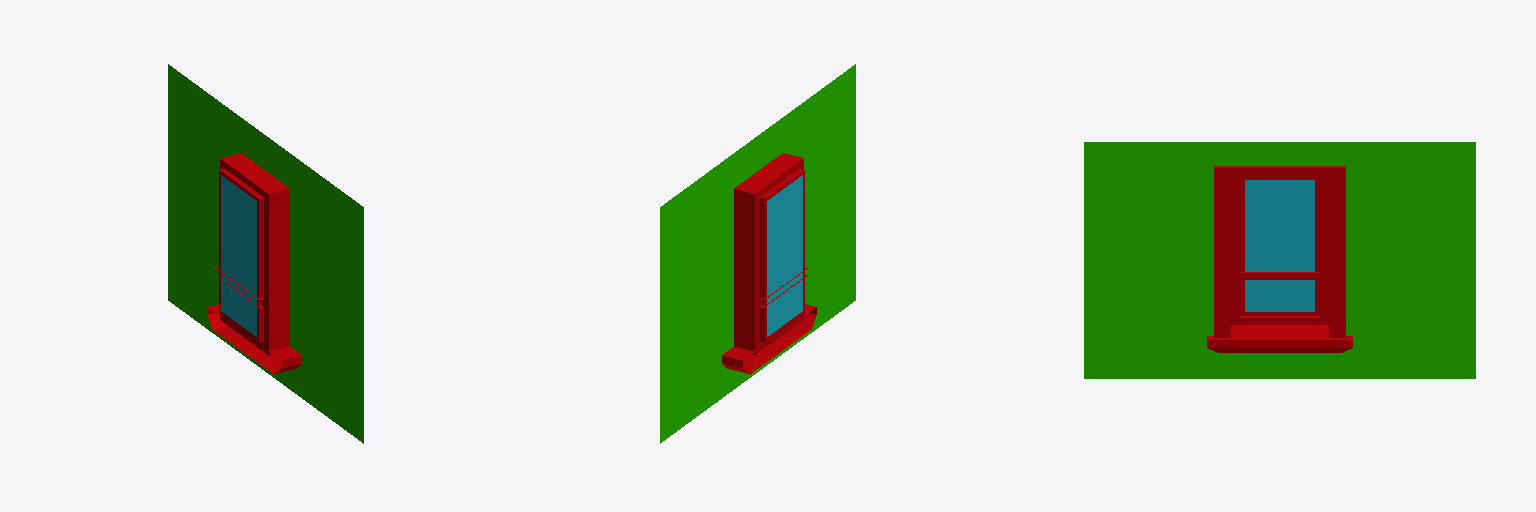
The model's file is NY_wallWindow2.obj.
The picture shows the model from 3 angles: view 1: azimuth 30°, elevation 25°; view 2: azimuth 150°, elevation 25°; view 3: azimuth 270°, elevation 25°; orthographic projection.
Visible parts, largest first — view 1: A_EXPO.obj.008; view 2: A_EXPO.obj.008; view 3: A_EXPO.obj.008.
Part boxes in pixels (bbox=[...]): A_EXPO.obj.008: bbox=[168, 64, 363, 443]; A_EXPO.obj.008: bbox=[660, 64, 855, 443]; A_EXPO.obj.008: bbox=[1084, 142, 1475, 378].
Size of the model in its own units: 0.3232 by 2 by 3.